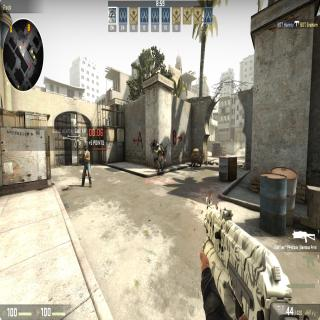CT-Body: (155, 142, 164, 172)
CT-Head: (155, 143, 159, 149)
T-Body: (82, 144, 90, 188)
T-Head: (84, 145, 87, 151)
